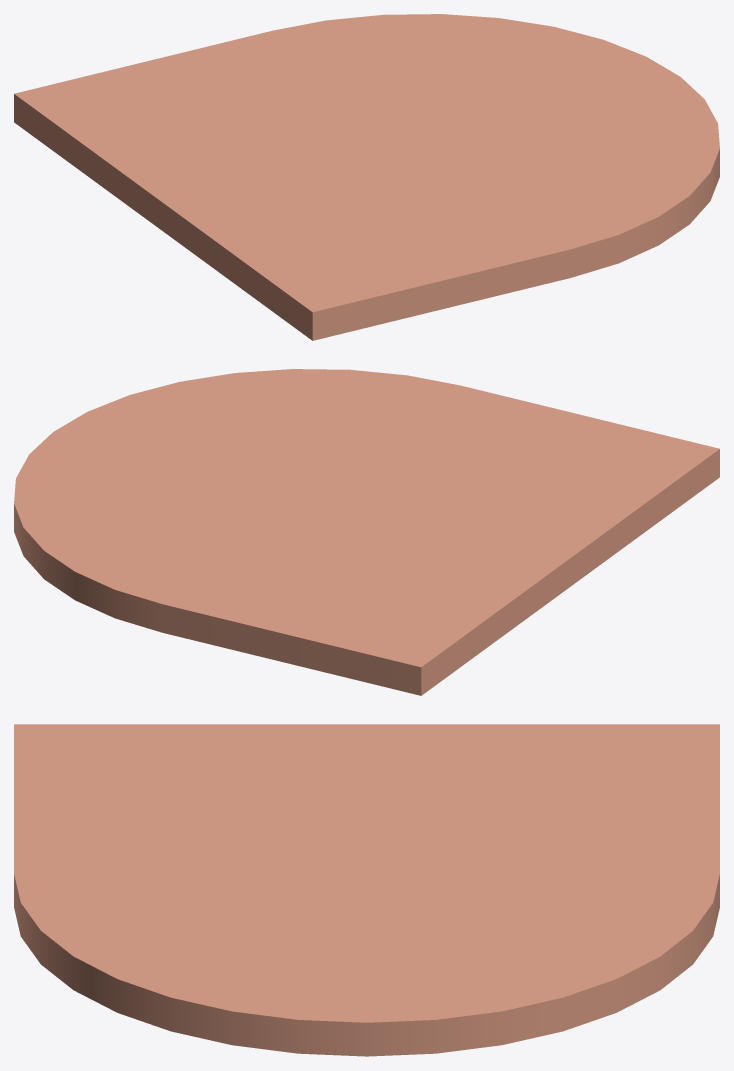
File: CS_Road_end.fbx
The picture shows the model from 3 angles, top to bottom: view 1: azimuth 30°, elevation 25°; view 2: azimuth 150°, elevation 25°; view 3: azimuth 270°, elevation 25°; orthographic projection. The views are drawn at different scales.
Visible parts, largest first — view 1: Road_End; view 2: Road_End; view 3: Road_End.
Part boxes in pixels (x1,y1,x2,y2): Road_End: [14, 14, 719, 340]; Road_End: [14, 369, 719, 695]; Road_End: [14, 724, 719, 1056].
Bounding box in the file's own units: 200 × 10.56 × 200.
